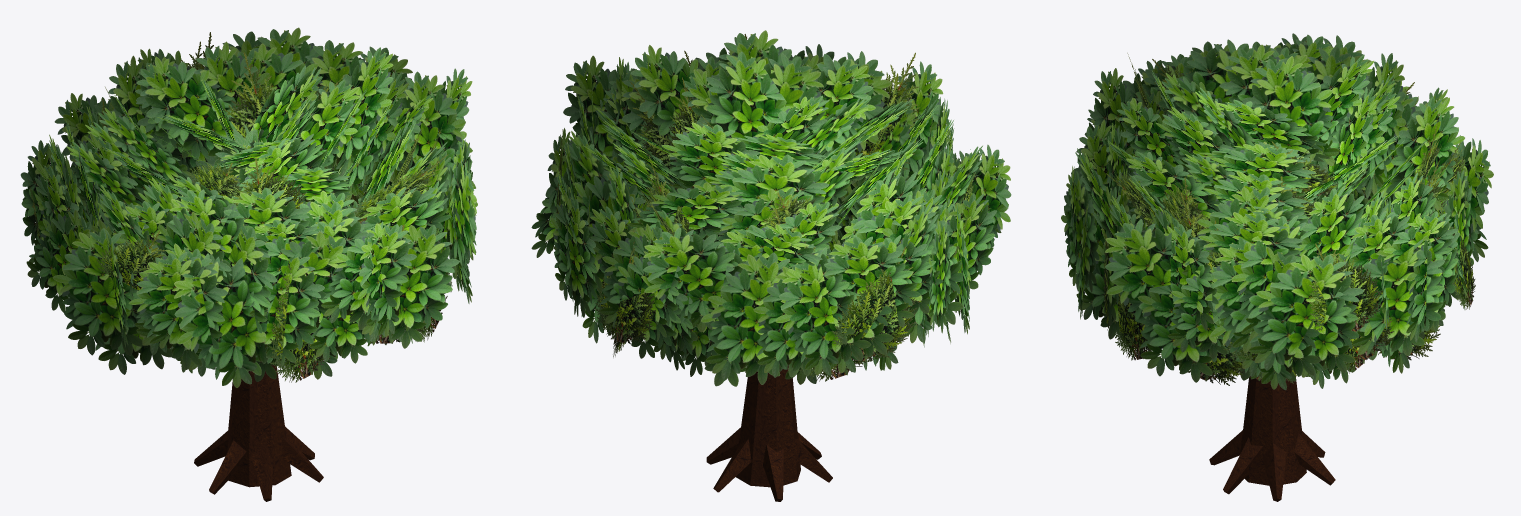
The model's file is tree_broadleaf_02_real.gltf.
The picture shows the model from 3 angles, left to right: view 1: azimuth 30°, elevation 25°; view 2: azimuth 150°, elevation 25°; view 3: azimuth 270°, elevation 25°; orthographic projection.
Visible parts, largest first — view 1: tree_broadleaf_02; view 2: tree_broadleaf_02; view 3: tree_broadleaf_02.
Part boxes in pixels (x1,y1,x2,y2): tree_broadleaf_02: (20, 27, 477, 501); tree_broadleaf_02: (531, 30, 1011, 501); tree_broadleaf_02: (1061, 33, 1493, 501).
Size of the model in its own units: 6.03 by 5.83 by 5.76.
Materials: 2 (2 with a texture image).
